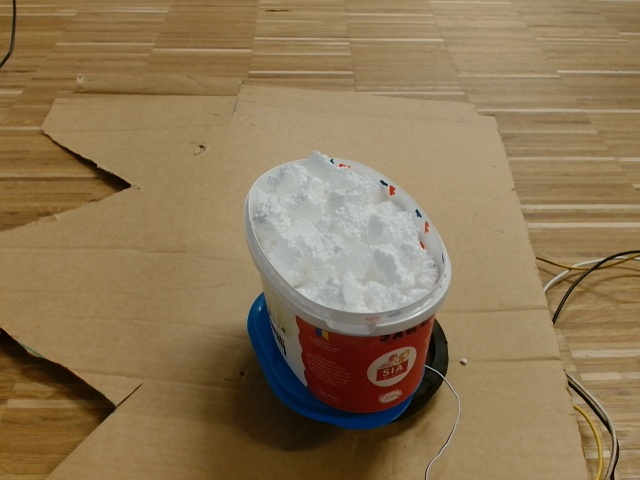Big_full: (244, 148, 457, 327)
